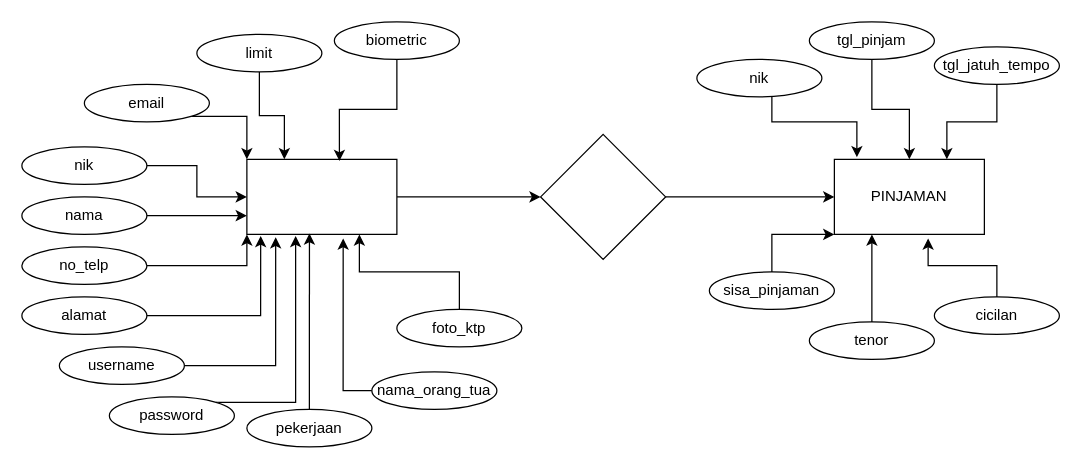
Some shapes in this 1081 by 469 pixel diagram are drawn without their labels. The centre of each missing label's shape, as x and y in pixels:
"Mengajukan Pinjaman" goes at point (602, 196).
"USER" goes at point (321, 196).
